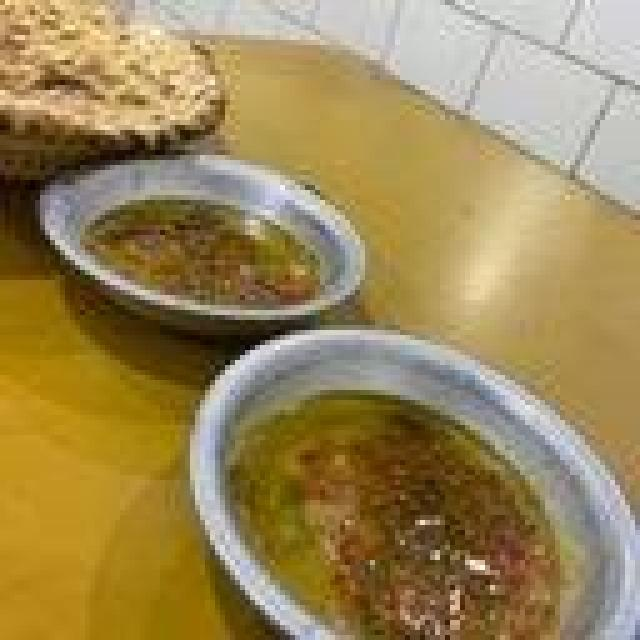fool: (228, 402, 563, 639), (72, 189, 317, 313)
